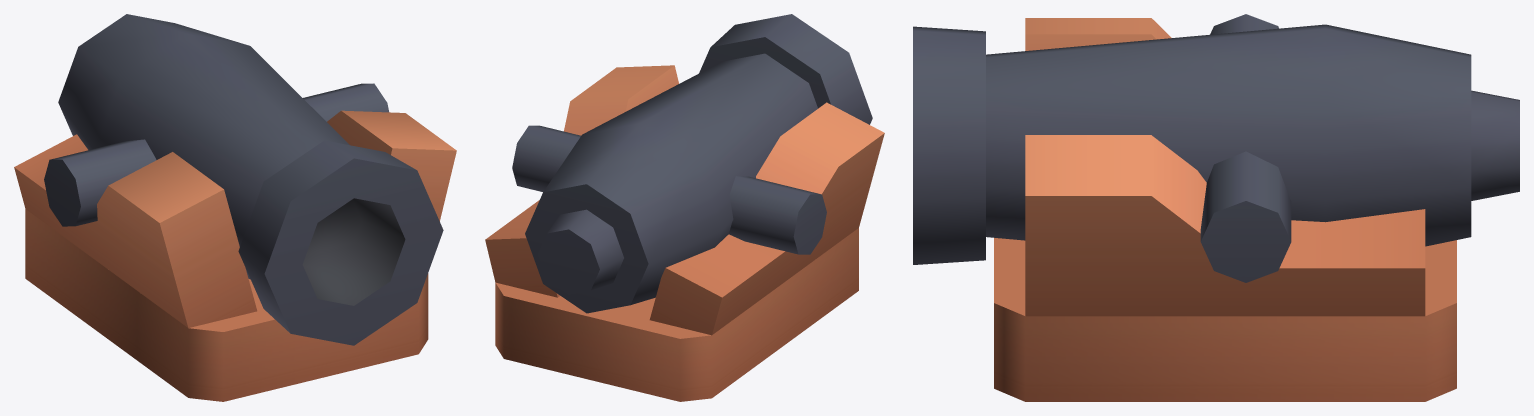
Rendered from kenney-pirate-cannon.glb.
3 views of the same model, side by side, from view 1: azimuth 30°, elevation 25°; view 2: azimuth 150°, elevation 25°; view 3: azimuth 270°, elevation 25° (orthographic). The views are drawn at different scales.
Visible parts, largest first — view 1: cannon; view 2: cannon; view 3: cannon.
Part boxes in pixels (x1,y1,x2,y2): cannon: [14, 14, 456, 401]; cannon: [485, 14, 884, 401]; cannon: [913, 14, 1519, 401].
Size of the model in its own units: 1.4 by 1.05 by 1.92.
Materials: 1 (1 with a texture image).
